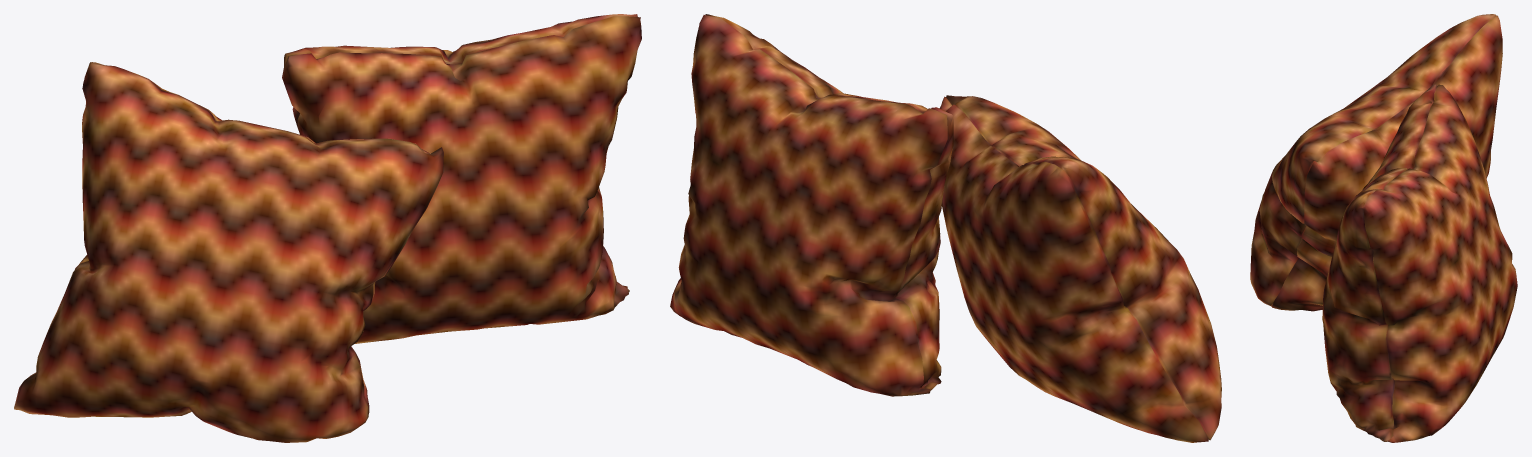
File: throw_pillows_01.glb
3 renders of one model, left to right at view 1: azimuth 30°, elevation 25°; view 2: azimuth 150°, elevation 25°; view 3: azimuth 270°, elevation 25°, orthographic. The views are drawn at different scales.
Parts seen in each view (by area): view 1: throw_pillows_01_pillow01, throw_pillows_01_pillow02; view 2: throw_pillows_01_pillow02, throw_pillows_01_pillow01; view 3: throw_pillows_01_pillow02, throw_pillows_01_pillow01.
Part boxes in pixels (x1,y1,x2,y2): throw_pillows_01_pillow01: (14, 62, 443, 442); throw_pillows_01_pillow02: (282, 14, 641, 343); throw_pillows_01_pillow02: (670, 14, 953, 396); throw_pillows_01_pillow01: (939, 95, 1221, 442); throw_pillows_01_pillow02: (1322, 84, 1517, 442); throw_pillows_01_pillow01: (1250, 14, 1502, 311).
Bounding box in the file's own units: 0.9401 × 0.4502 × 0.4519.
Materials: 1 (1 with a texture image).
